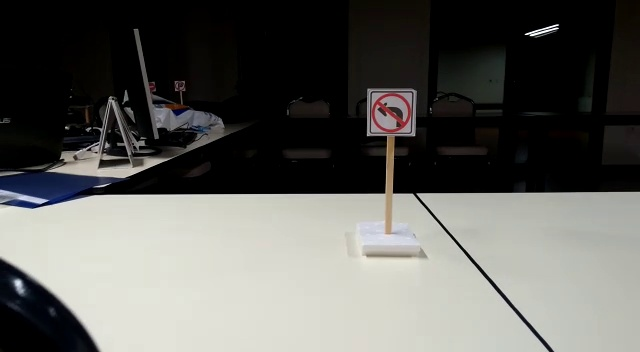sola_donulmez: (376, 89, 413, 134)
